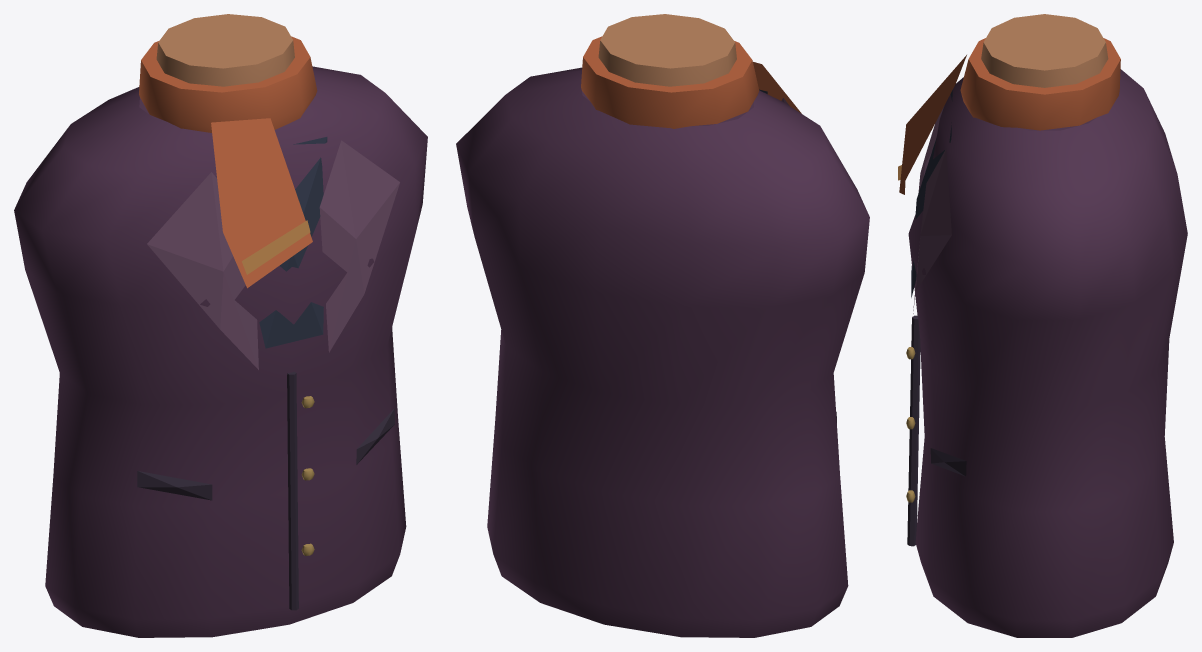
File: torso.obj
3 renders of one model, left to right at view 1: azimuth 30°, elevation 25°; view 2: azimuth 150°, elevation 25°; view 3: azimuth 270°, elevation 25°, orthographic. The views are drawn at different scales.
Parts seen in each view (by area): view 1: torso; view 2: torso; view 3: torso.
Part boxes in pixels (bbox=[...]): torso: bbox=[14, 14, 427, 637]; torso: bbox=[456, 14, 869, 637]; torso: bbox=[898, 14, 1187, 637].
Bounding box in the file's own units: 0.3744 × 0.498 × 0.251.
